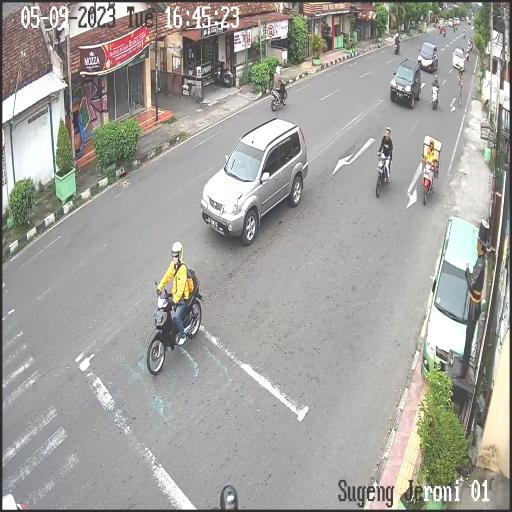mobil: (201, 118, 309, 244), (390, 56, 420, 111), (418, 42, 438, 74)
motor: (148, 272, 204, 376), (420, 151, 438, 206), (375, 150, 394, 200), (270, 82, 288, 111)
